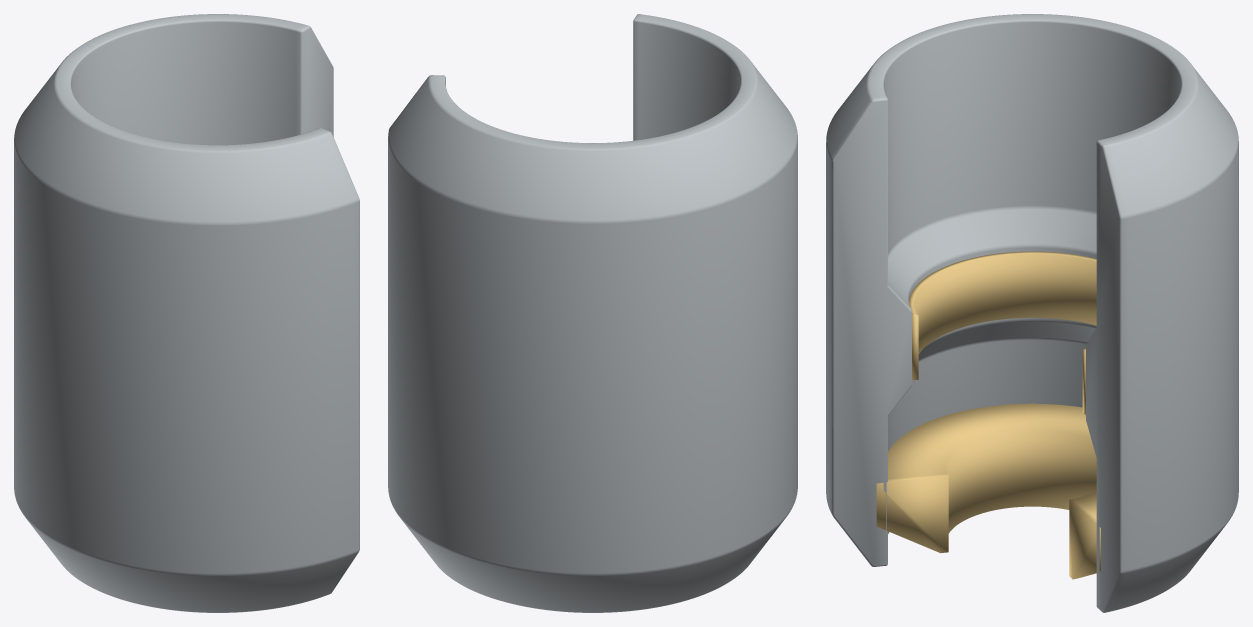
Rendered from no-go-nipple.glb.
3 views of the same model, side by side, from view 1: azimuth 30°, elevation 25°; view 2: azimuth 150°, elevation 25°; view 3: azimuth 270°, elevation 25° (orthographic).
Visible parts, largest first — view 1: Nipple body; view 2: Nipple body; view 3: Nipple body, No-go shoulder, Seal bore.
Part boxes in pixels (bbox=[...]): Nipple body: bbox=[14, 14, 359, 612]; Nipple body: bbox=[388, 14, 797, 612]; Nipple body: bbox=[826, 14, 1238, 612]; No-go shoulder: bbox=[876, 403, 1100, 579]; Seal bore: bbox=[909, 251, 1096, 414].
Size of the model in its own units: 1.9 by 2.5 by 2.
